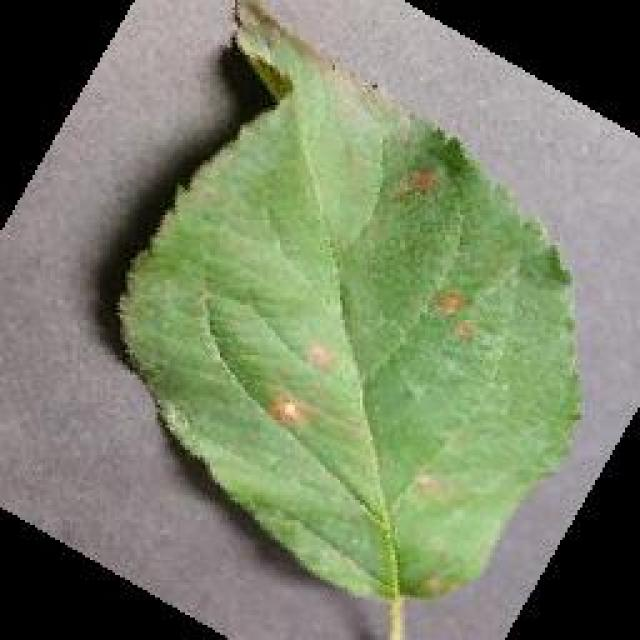apple scab disease: (112, 0, 585, 622)
